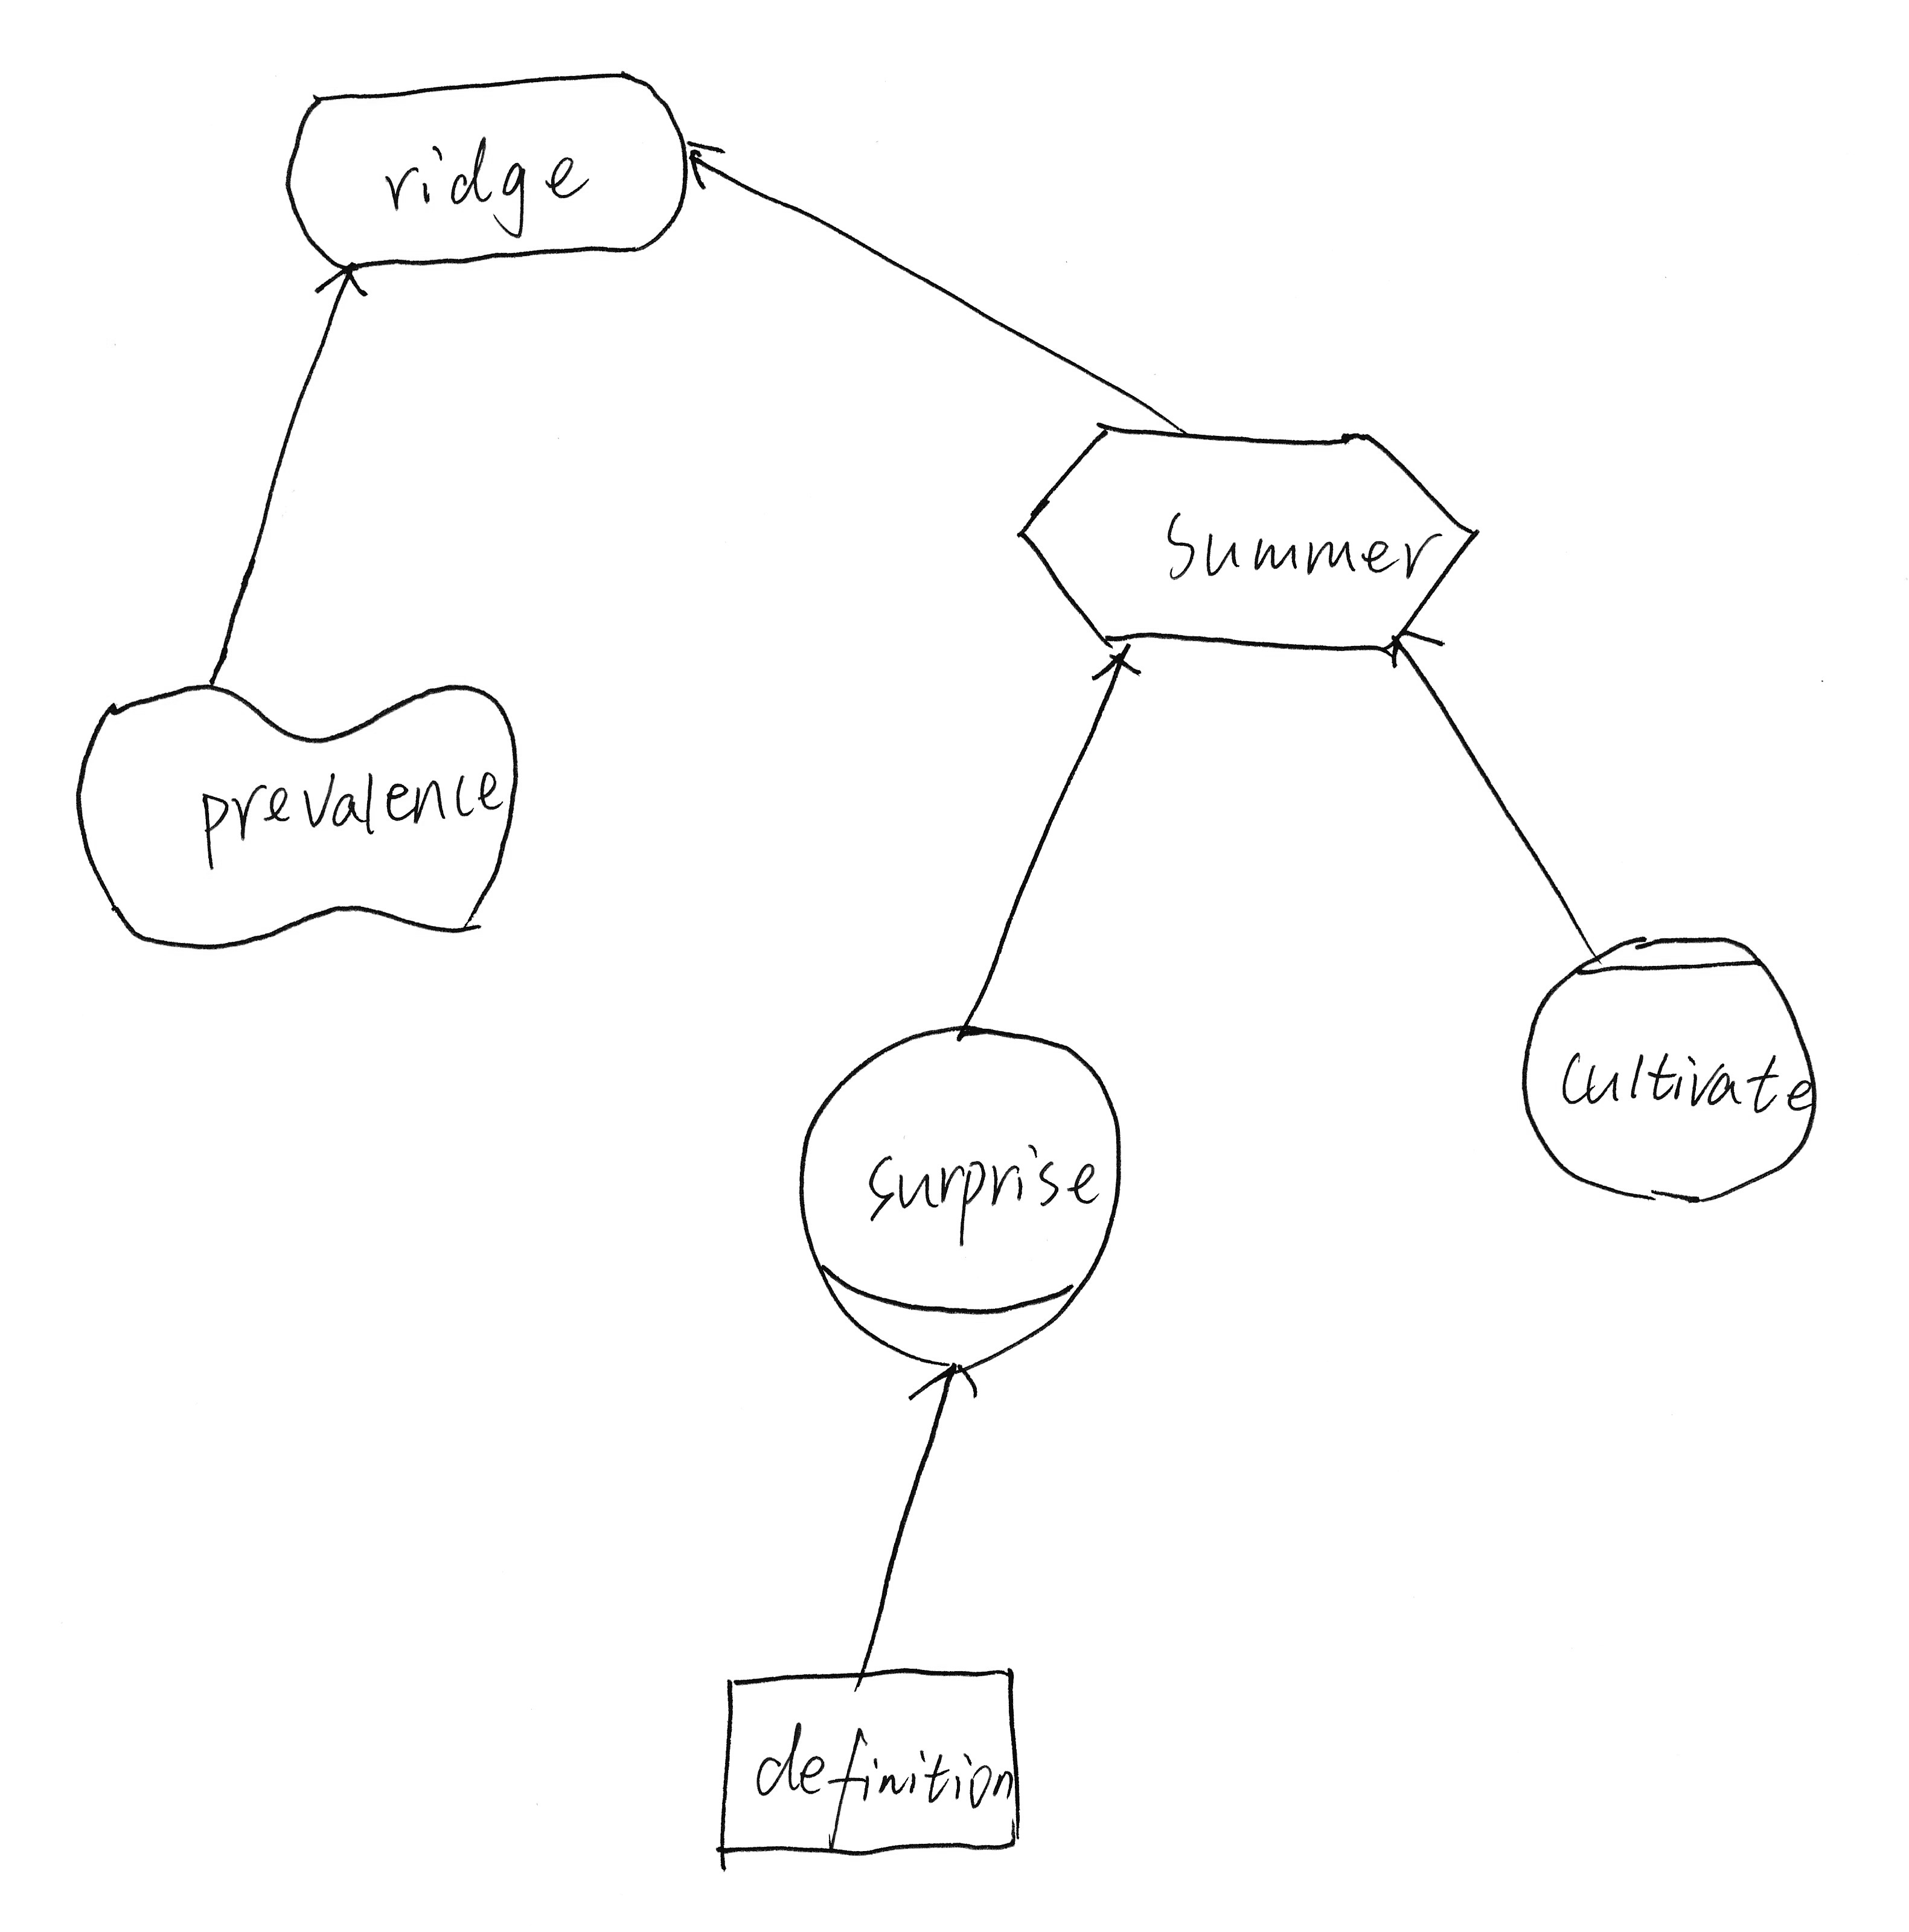agent: (1510, 913, 1832, 1213)
arrow: (58, 671, 547, 956), (900, 1355, 998, 1421), (673, 128, 736, 217), (1082, 636, 1163, 701), (1374, 622, 1453, 678), (308, 257, 376, 320)
goal: (1005, 402, 1498, 680), (273, 54, 703, 292)
resource: (691, 1647, 1051, 1880)
role: (773, 1005, 1140, 1383)
